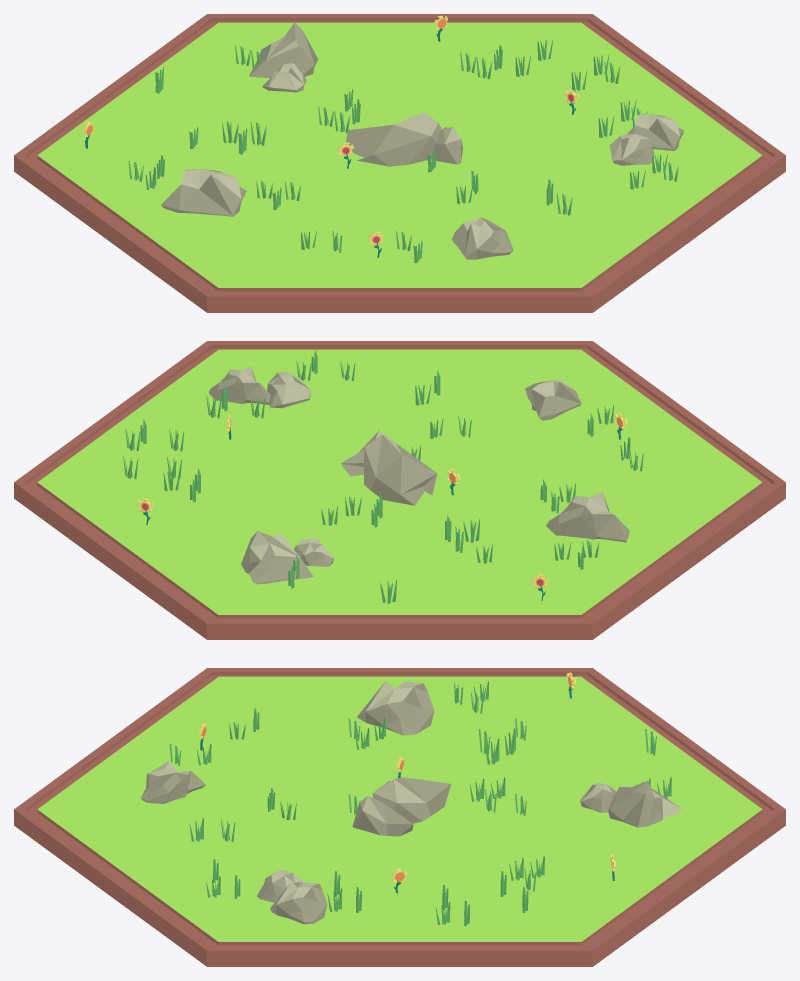
File: Hexagon_Grass.glb
3 views of the same model, one above another, from view 1: azimuth 30°, elevation 25°; view 2: azimuth 150°, elevation 25°; view 3: azimuth 270°, elevation 25° (orthographic).
Visible parts, largest first — view 1: Sphere.004; view 2: Sphere.004; view 3: Sphere.004.
Boxes of the visible parts, x1,y1,x2,y2 form: Sphere.004: (14, 14, 785, 312); Sphere.004: (14, 341, 785, 639); Sphere.004: (14, 668, 785, 966).
Bounding box in the file's own units: 46.18 × 4.83 × 53.32.
Materials: 4 (4 with a texture image).
